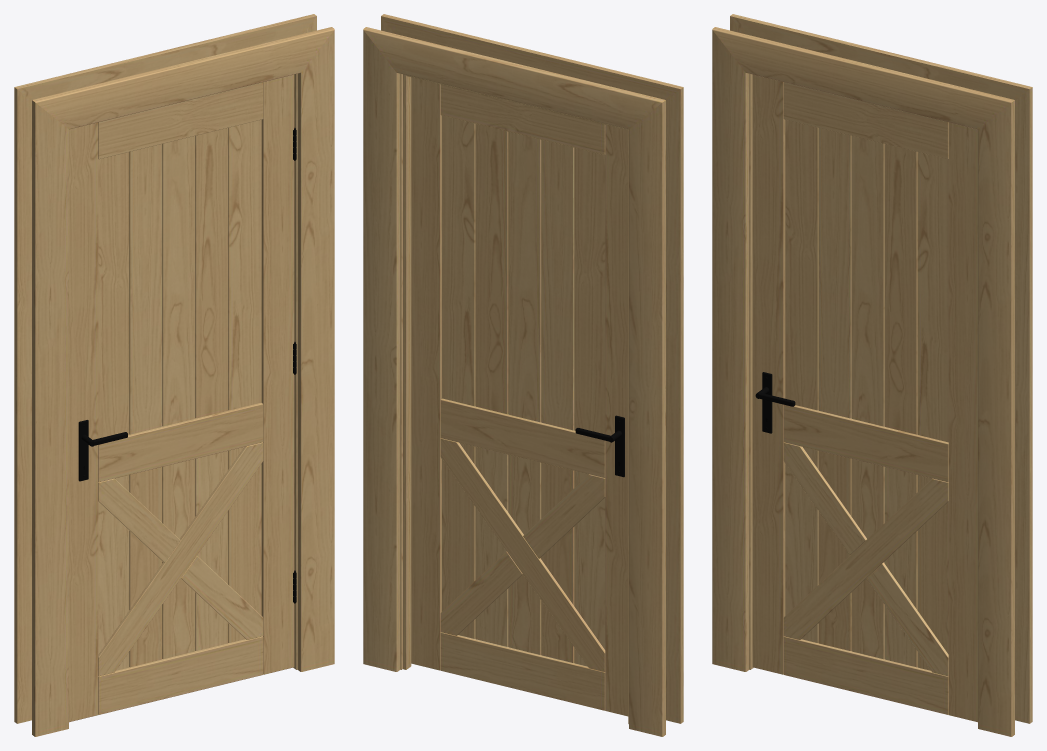
The model's file is puerta_neltume.glb.
The picture shows the model from 3 angles, left to right: view 1: azimuth 30°, elevation 25°; view 2: azimuth 150°, elevation 25°; view 3: azimuth 330°, elevation 25°; orthographic projection.
Visible parts, largest first — view 1: Hoja, Marco; view 2: Hoja, Marco; view 3: Hoja, Marco.
Part boxes in pixels (left/top/right/bottom): Hoja: left=69, top=74, right=296, bottom=722; Marco: left=14, top=14, right=334, bottom=736; Hoja: left=411, top=77, right=628, bottom=716; Marco: left=363, top=14, right=683, bottom=736; Hoja: left=752, top=74, right=977, bottom=722; Marco: left=712, top=14, right=1032, bottom=736.
Size of the model in its own units: 1.06 by 2.14 by 0.167.
Materials: 4 (1 with a texture image).
